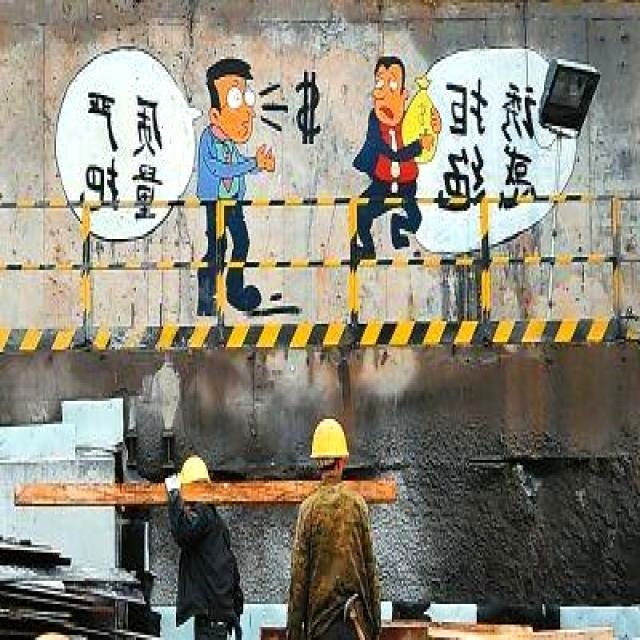Con_Casco: (311, 416, 348, 482)
